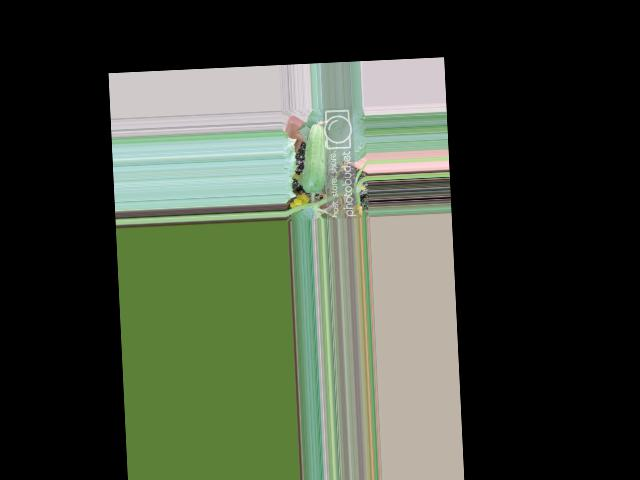cucumber: (299, 122, 330, 192)
